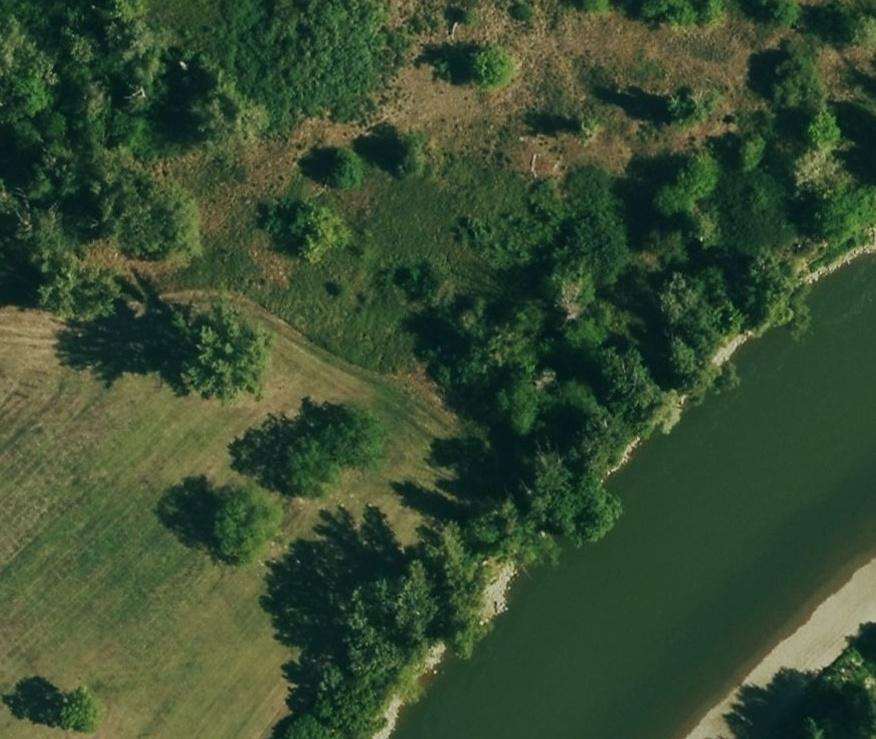forest: (311, 43, 876, 732), (0, 0, 238, 316)
lake: (397, 257, 876, 737)
